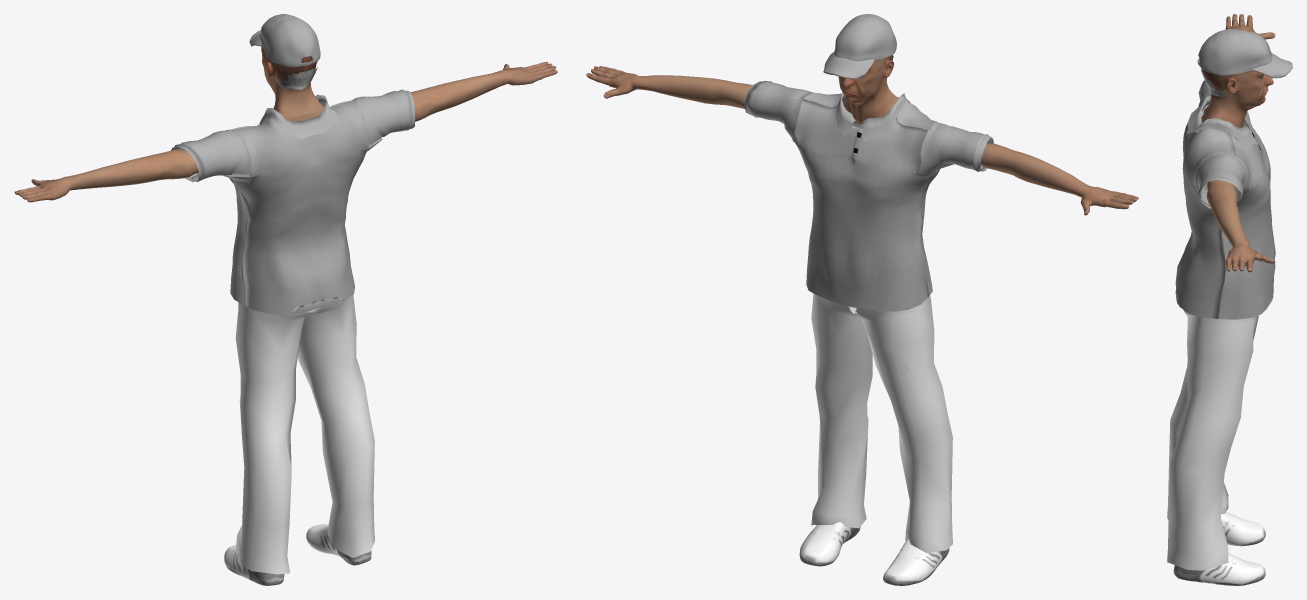
The model's file is richter.glb.
3 renders of one model, left to right at view 1: azimuth 30°, elevation 25°; view 2: azimuth 150°, elevation 25°; view 3: azimuth 270°, elevation 25°, orthographic. The views are drawn at different scales.
Visible parts, largest first — view 1: mensch; view 2: mensch; view 3: mensch.
Boxes of the visible parts, left/top/right/bottom form: mensch: left=14, top=14, right=557, bottom=585; mensch: left=586, top=14, right=1138, bottom=585; mensch: left=1167, top=14, right=1292, bottom=585.
Size of the model in its own units: 1.84 by 1.77 by 0.3821.
1 material, 1 textured.
